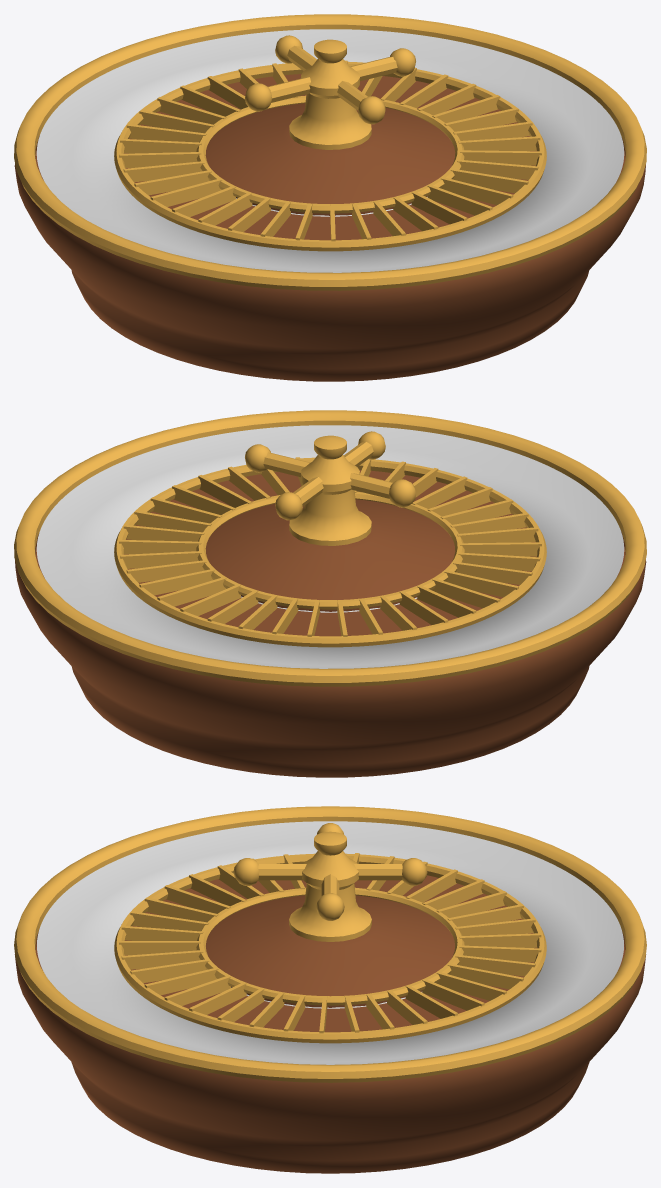
File: roulette.glb
The picture shows the model from 3 angles, top to bottom: view 1: azimuth 30°, elevation 25°; view 2: azimuth 150°, elevation 25°; view 3: azimuth 270°, elevation 25°; orthographic projection.
Parts seen in each view (by area): view 1: Schale, Scheibe, Kessel_Stege, Schale_Rand, Kessel_Mitte, Kessel_Drehkreuz; view 2: Schale, Scheibe, Kessel_Stege, Schale_Rand, Kessel_Mitte, Kessel_Drehkreuz; view 3: Schale, Scheibe, Kessel_Stege, Schale_Rand, Kessel_Mitte, Kessel_Drehkreuz.
Part boxes in pixels (x1=…): Schale: x1=14, y1=74, x2=645, y2=381; Scheibe: x1=36, y1=29, x2=624, y2=272; Kessel_Stege: x1=114, y1=60, x2=546, y2=251; Schale_Rand: x1=14, y1=14, x2=646, y2=290; Kessel_Mitte: x1=205, y1=103, x2=455, y2=215; Kessel_Drehkreuz: x1=245, y1=35, x2=415, y2=149; Schale: x1=15, y1=470, x2=646, y2=777; Scheibe: x1=36, y1=425, x2=624, y2=668; Kessel_Stege: x1=114, y1=457, x2=546, y2=647; Schale_Rand: x1=14, y1=410, x2=646, y2=686; Kessel_Mitte: x1=205, y1=499, x2=455, y2=611; Kessel_Drehkreuz: x1=245, y1=431, x2=415, y2=545; Schale: x1=14, y1=875, x2=646, y2=1173; Scheibe: x1=37, y1=821, x2=623, y2=1064; Kessel_Stege: x1=114, y1=853, x2=546, y2=1043; Schale_Rand: x1=14, y1=806, x2=646, y2=1082; Kessel_Mitte: x1=206, y1=895, x2=454, y2=1007; Kessel_Drehkreuz: x1=233, y1=823, x2=427, y2=941.
Bounding box in the file's own units: 0.1604 × 0.0665 × 0.1604.
